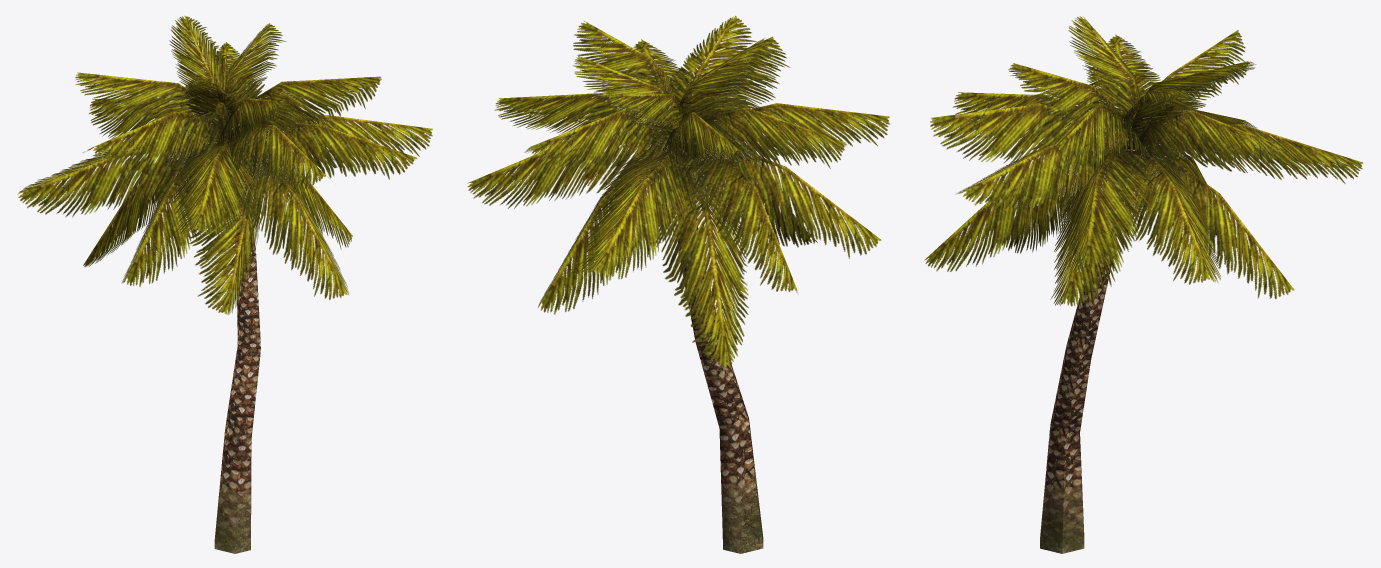
File: ph_tree5.glb
3 renders of one model, left to right at view 1: azimuth 30°, elevation 25°; view 2: azimuth 150°, elevation 25°; view 3: azimuth 270°, elevation 25°, orthographic. The views are drawn at different scales.
Visible parts, largest first — view 1: ph_tree5-col; view 2: ph_tree5-col; view 3: ph_tree5-col.
Part boxes in pixels (x1,y1,x2,y2): ph_tree5-col: (17,16,432,553); ph_tree5-col: (467,15,889,553); ph_tree5-col: (924,16,1363,553).
Size of the model in its own units: 6.38 by 8.23 by 6.46.
Materials: 3 (3 with a texture image).
